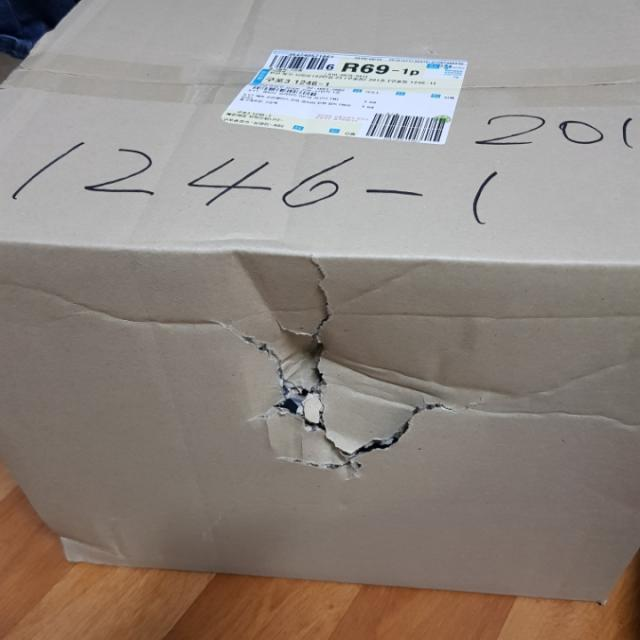hole: (230, 306, 454, 480)
